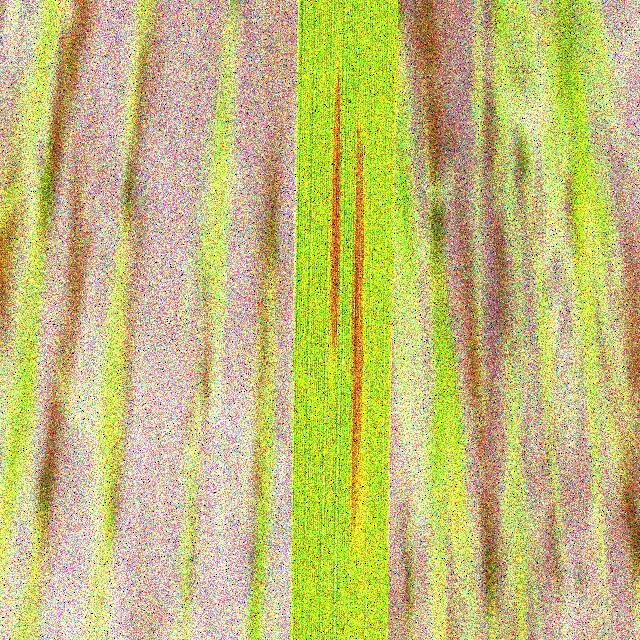NBS: (351, 122, 365, 538), (330, 69, 341, 365)
